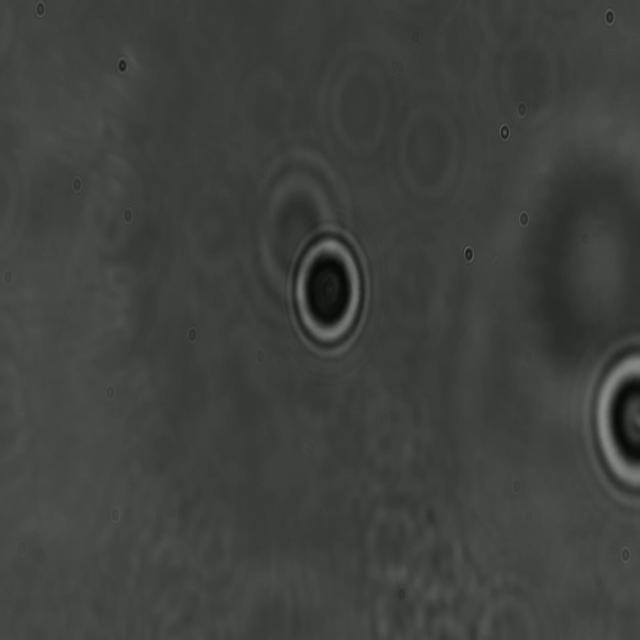DCELL: (279, 219, 378, 366)
